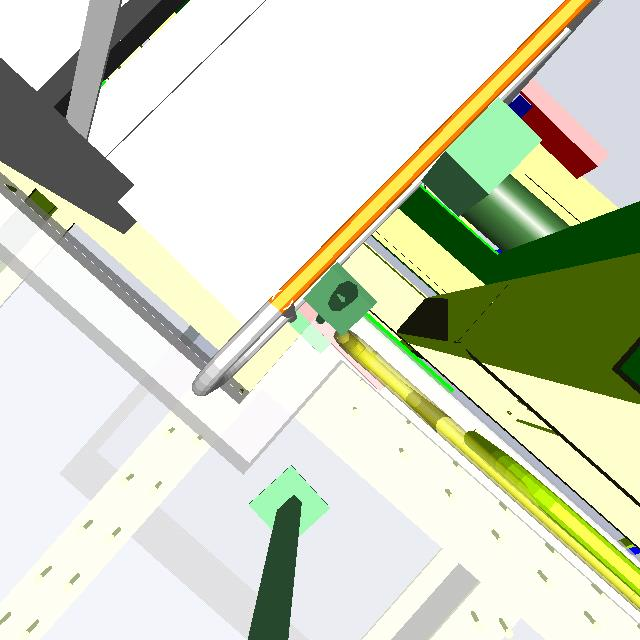Poste: (300, 259, 378, 332)
Soporte: (391, 268, 640, 400)
